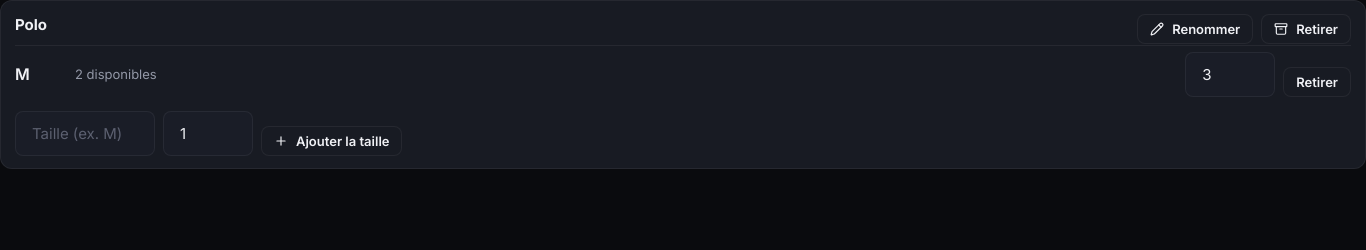
Test: UniformItemEditor › affiche le 409 d'archivage (pièces encore empruntées)
This screenshot has width=1366, height=250.
Click the button with aria-label "Retirer Polo" at (1306, 29), box [1261, 14, 1351, 44]
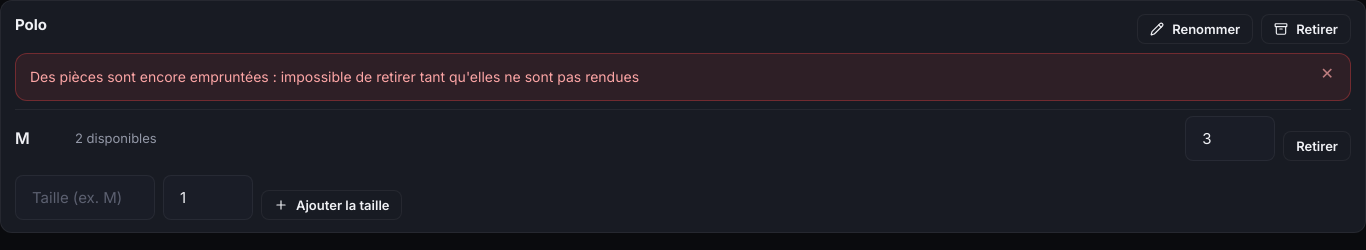
expect the message shows "encore empruntées": met, box [30, 68, 639, 85]
